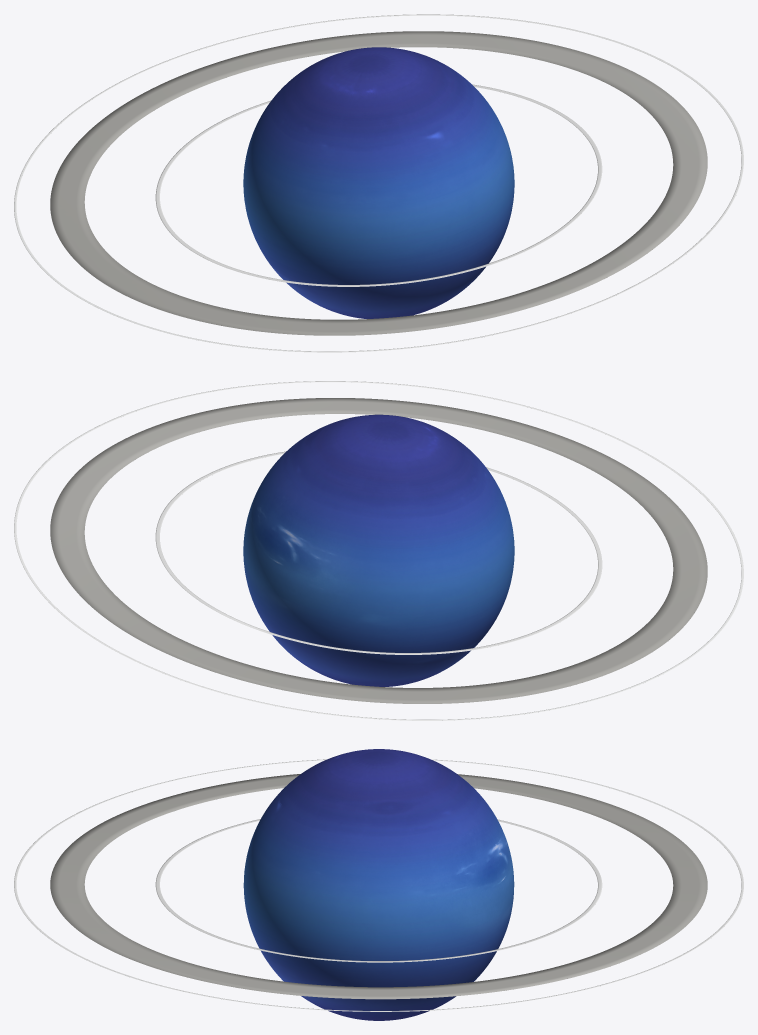
The model's file is neptune.obj.
3 views of the same model, one above another, from view 1: azimuth 30°, elevation 25°; view 2: azimuth 150°, elevation 25°; view 3: azimuth 270°, elevation 25° (orthographic).
Visible parts, largest first — view 1: Neptune; view 2: Neptune; view 3: Neptune.
Boxes of the visible parts, x1=… form: Neptune: x1=14, y1=14, x2=743, y2=352; Neptune: x1=14, y1=381, x2=743, y2=720; Neptune: x1=14, y1=749, x2=743, y2=1020.
Bounding box in the file's own units: 238 × 89.18 × 239.
1 material, 1 textured.
